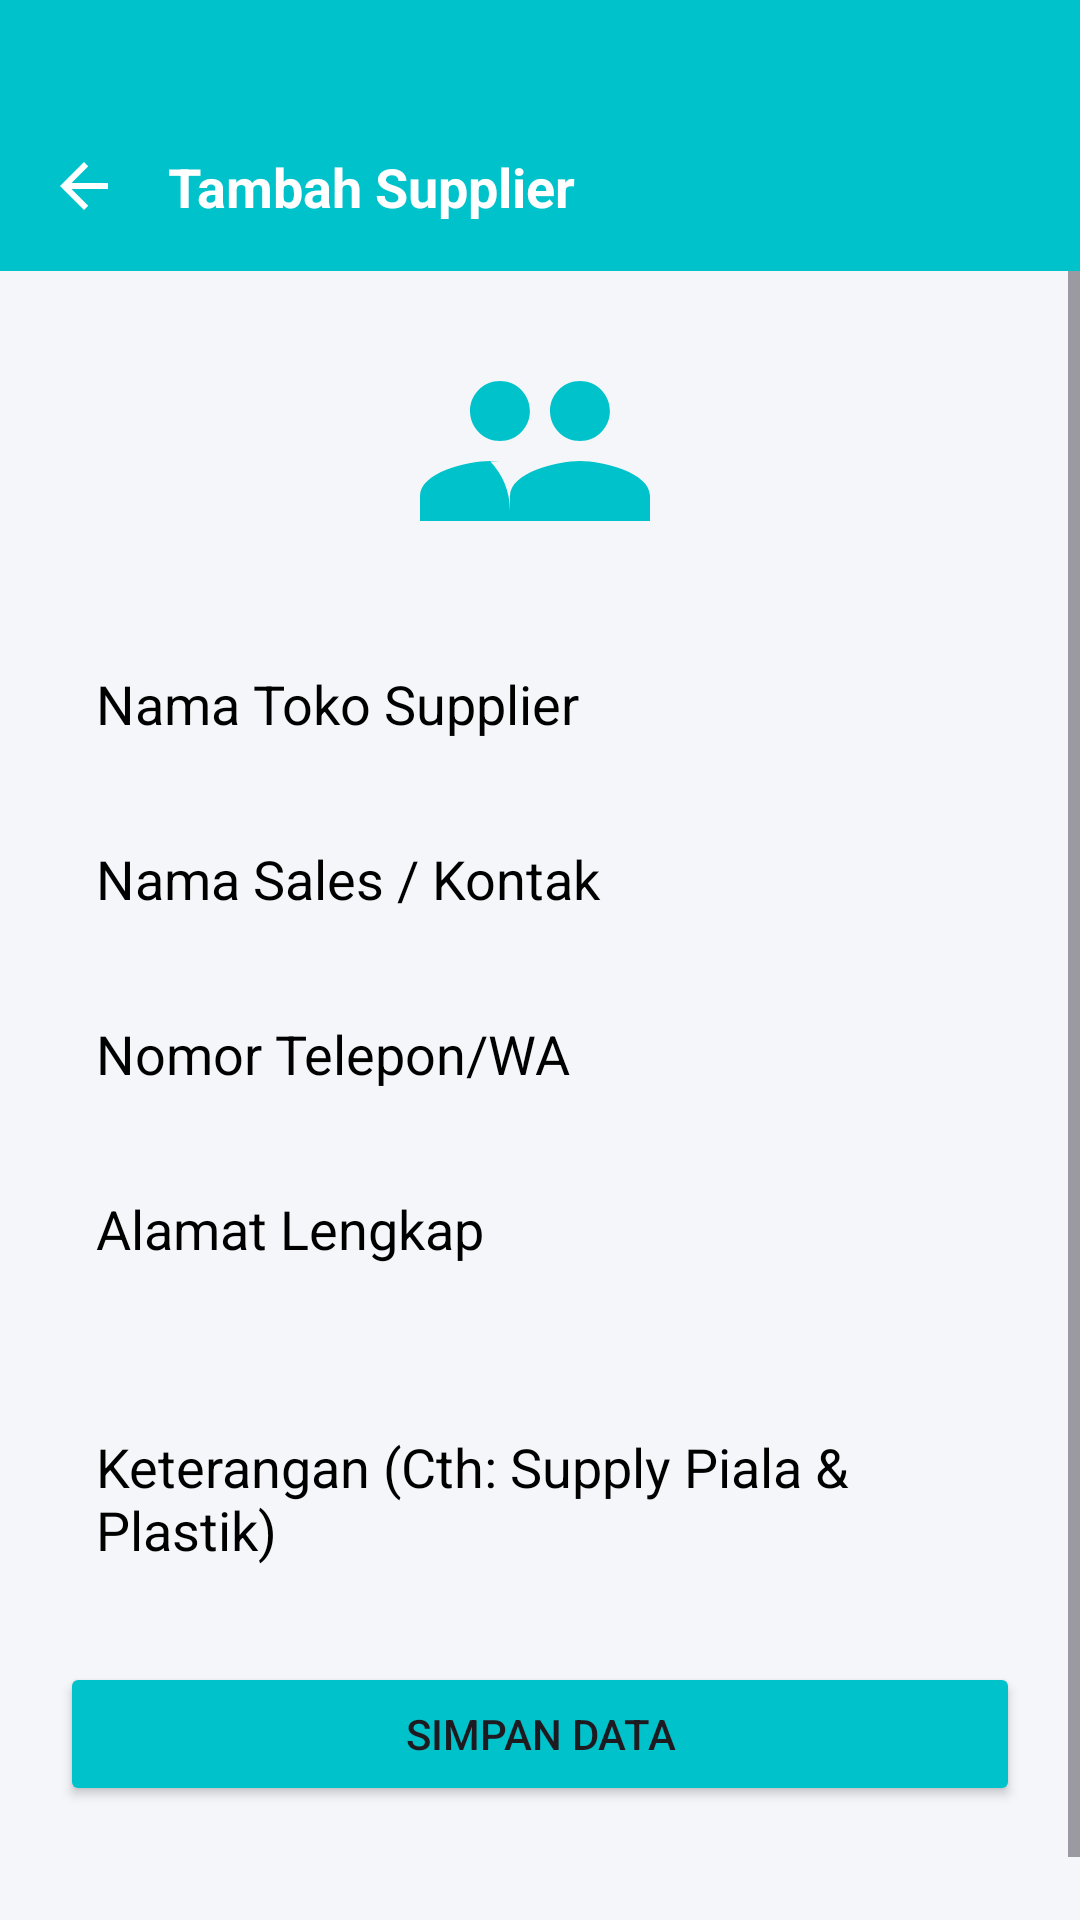

Where icons sit on this 1080×1920 app screen, as Rect(x1, y1, x2, y2):
arrow back: Rect(60, 162, 108, 210)
pelanggan: Rect(420, 381, 650, 521)
